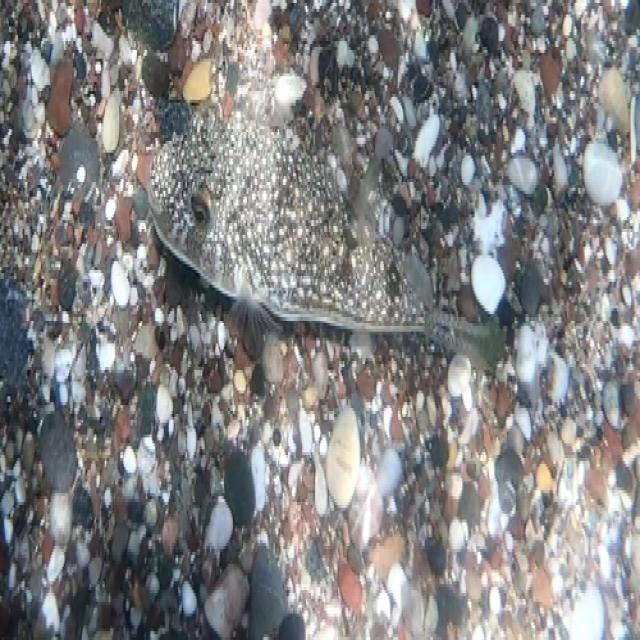Balik: (149, 112, 424, 331)
